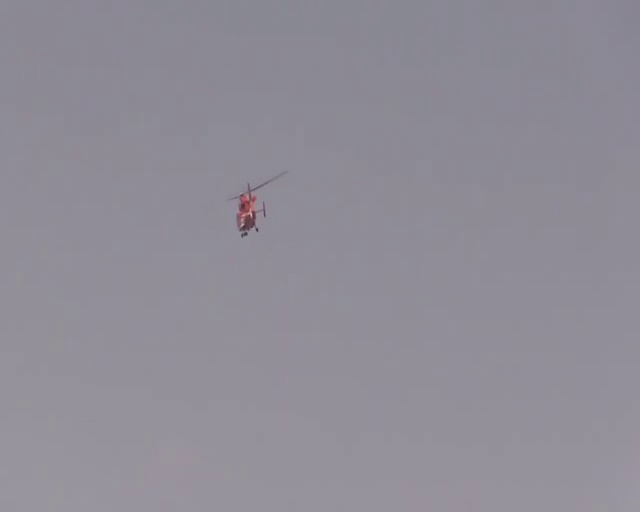HELICOPTER: (225, 168, 288, 238)
